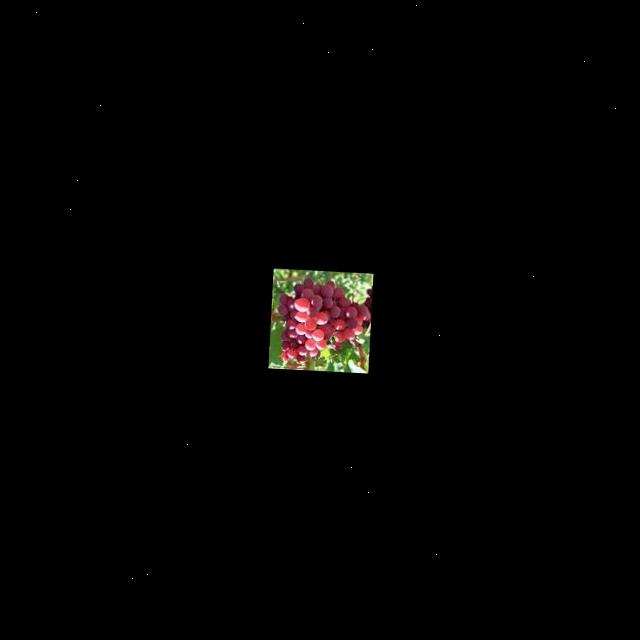grape: (274, 276, 372, 368)
